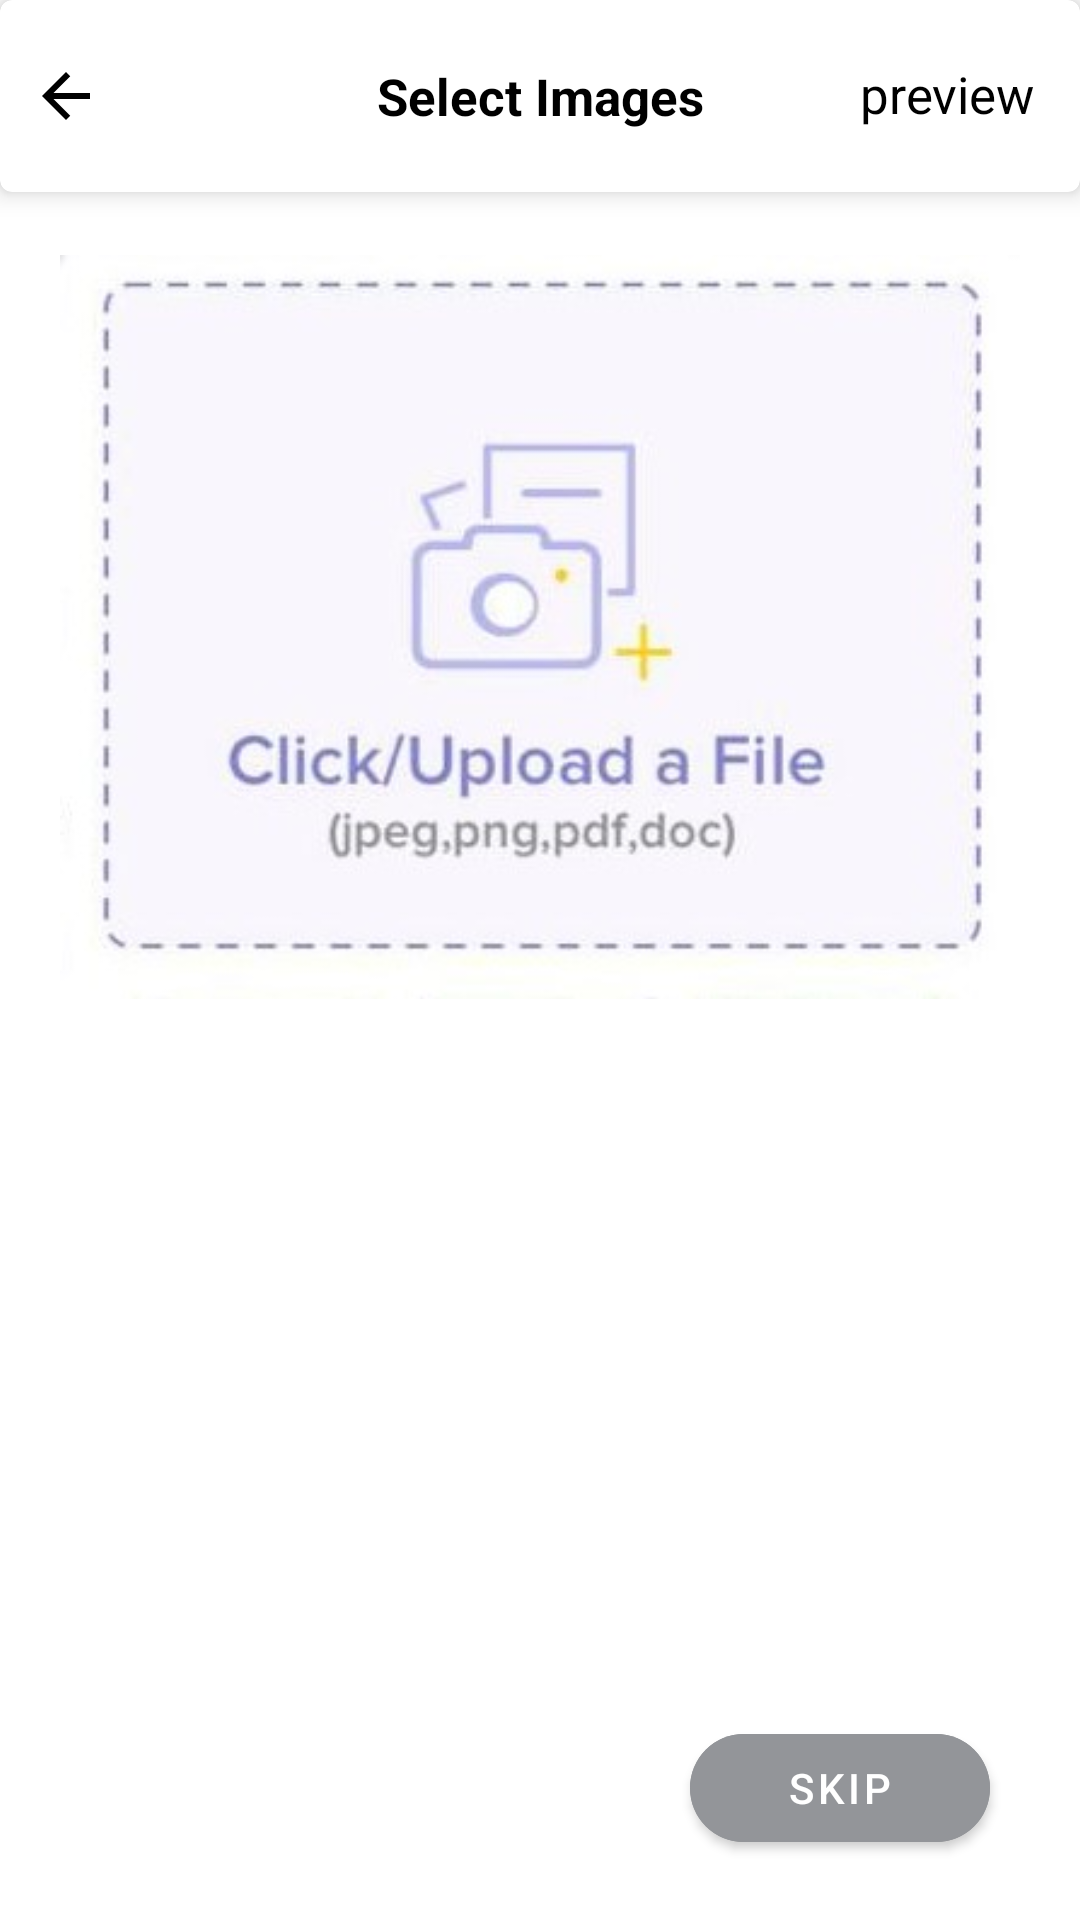

Icons on this 1080 x 1920 Android screen, each with its box as region(x1, y1, x2, y2):
arrow back: region(42, 72, 90, 120)
